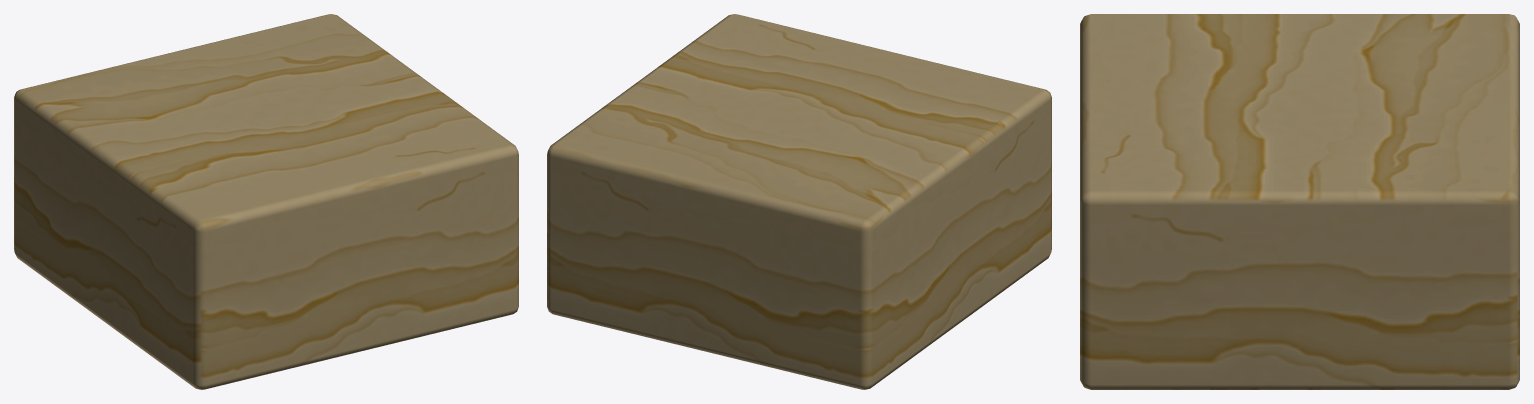
File: SM_Platform_2m_01_B.glb
3 views of the same model, side by side, from view 1: azimuth 30°, elevation 25°; view 2: azimuth 150°, elevation 25°; view 3: azimuth 270°, elevation 25° (orthographic). The views are drawn at different scales.
Parts seen in each view (by area): view 1: SM_Platform_2m_01_B; view 2: SM_Platform_2m_01_B; view 3: SM_Platform_2m_01_B.
Boxes of the visible parts, x1,y1,x2,y2 form: SM_Platform_2m_01_B: (14, 14, 518, 389); SM_Platform_2m_01_B: (547, 14, 1051, 389); SM_Platform_2m_01_B: (1080, 14, 1519, 389).
Bounding box in the file's own units: 2 × 1 × 2.
1 material, 1 textured.
